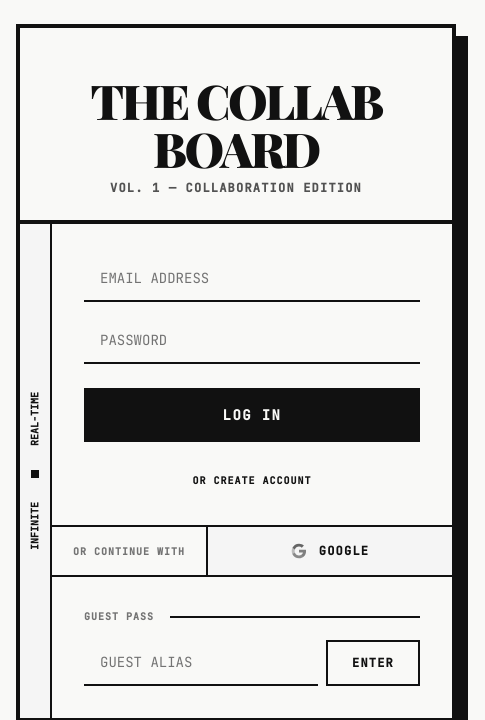
LoginPage integration › shows error when both anonymous and fallback sign-up fail
Type "TestUser" into the field with placeholder "GUEST ALIAS" at (201, 663), box [84,640,318,686]
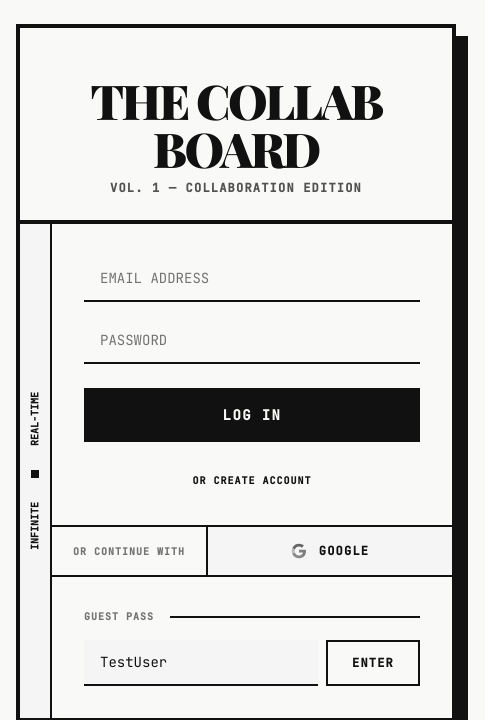
Click the button "ENTER" at (373, 663), box [326,640,420,686]
(page scrolled)
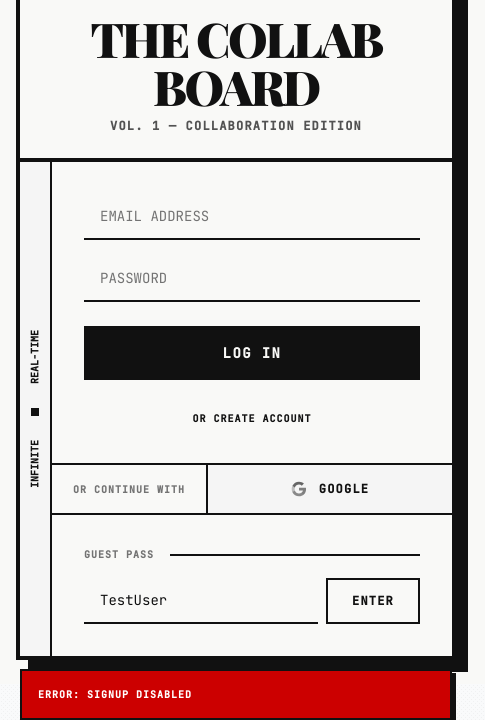
Check: the text "ERROR: Signup disabled" is shown, box [20,669,452,719]
